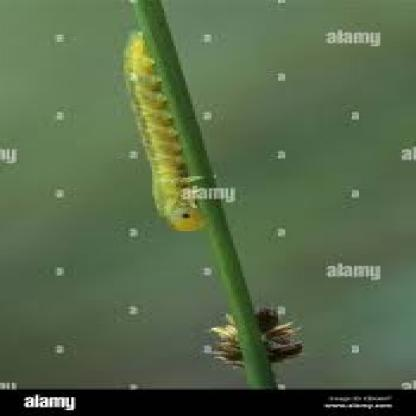sawfly: (119, 26, 217, 237)
